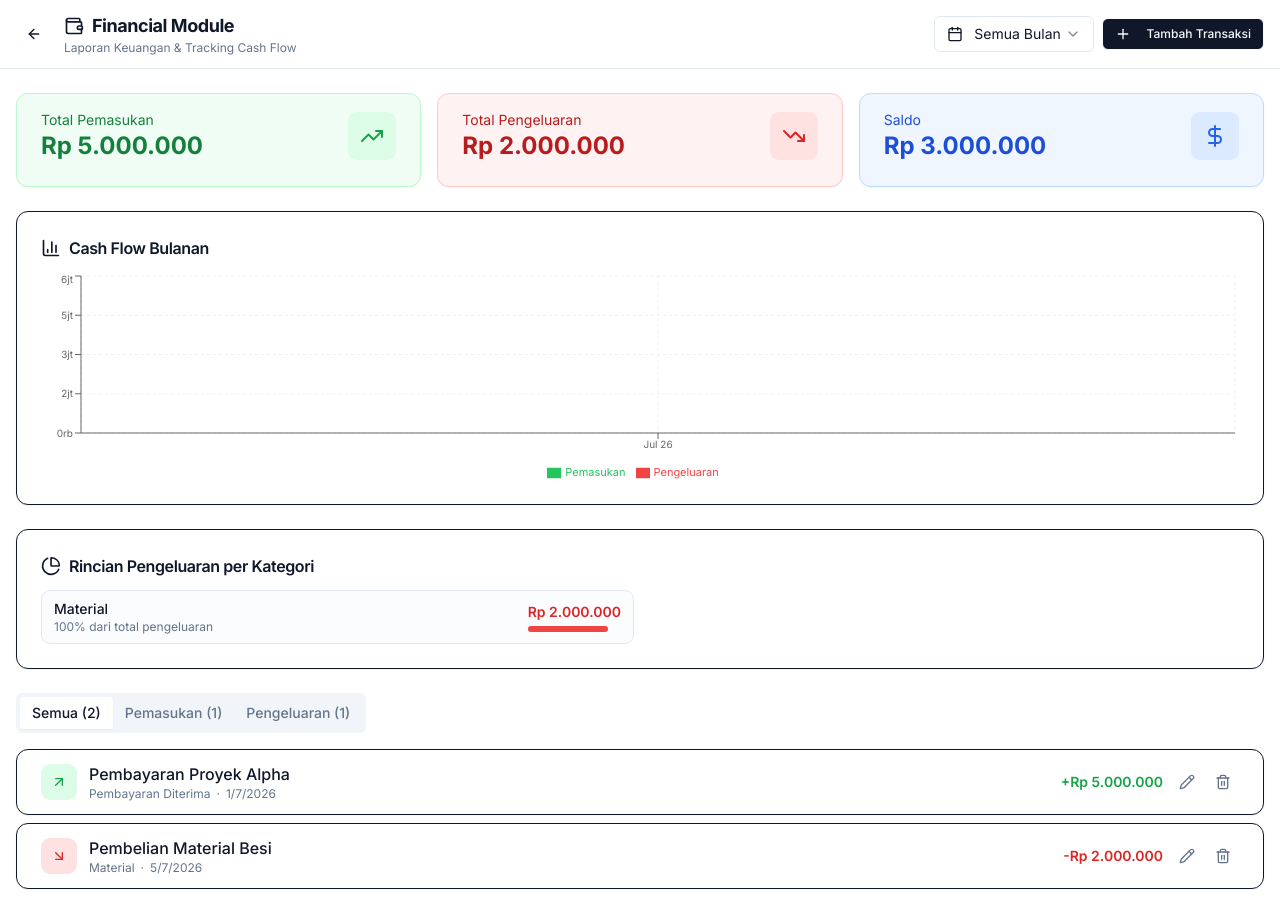
Test: FinancialModule – edit transaction › sends a PATCH and the updated description is visible in the same session
Click the 3rd button at (1187, 782), box left=1171, top=766, right=1203, bottom=798
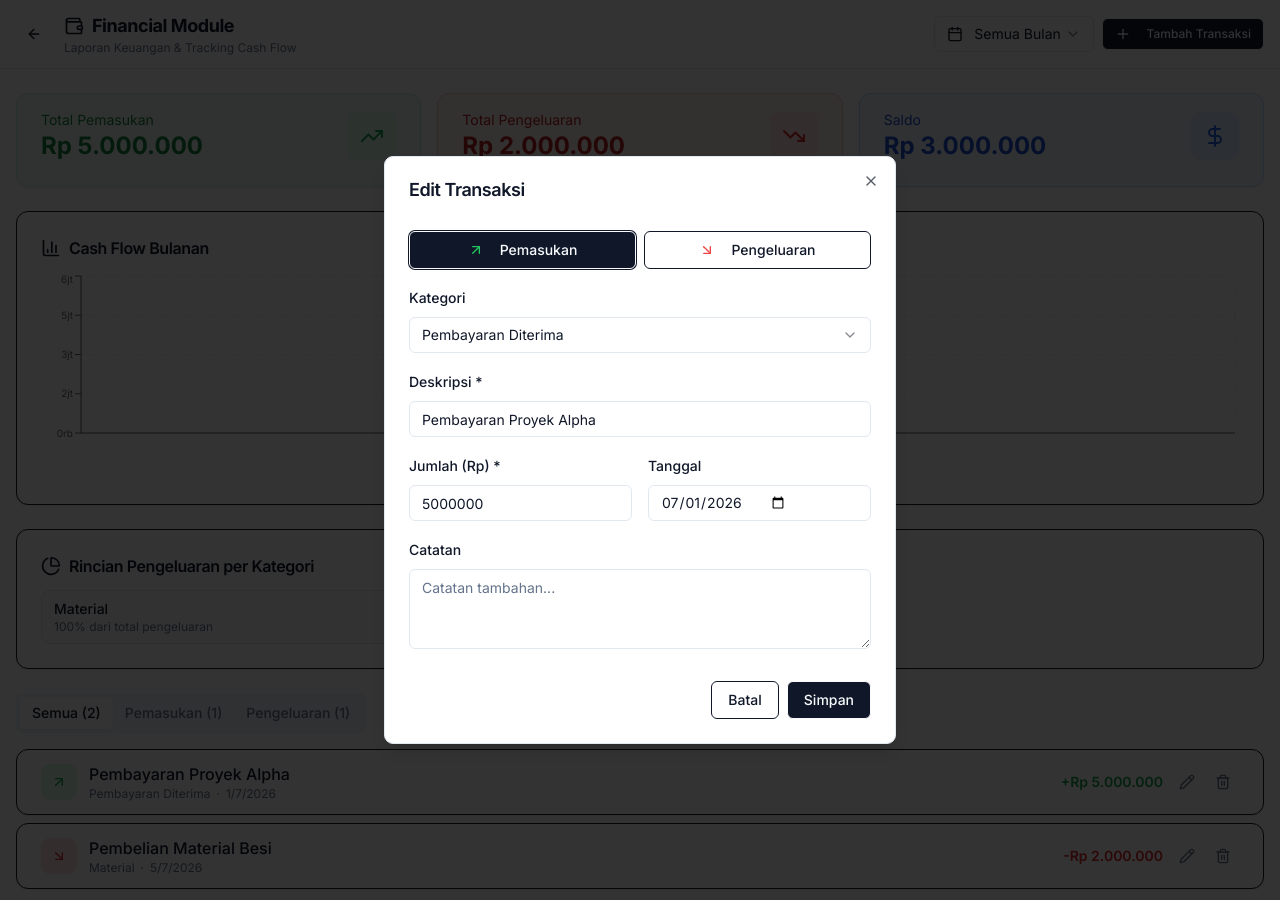
Check: the heading "Edit Transaksi" is shown, box left=409, top=179, right=525, bottom=200
Replace the text in the field showing "Pembayaran Proyek Alpha" below "Deskripsi *" with "Pembayaran Diperbarui" at (640, 419), box left=409, top=401, right=871, bottom=437
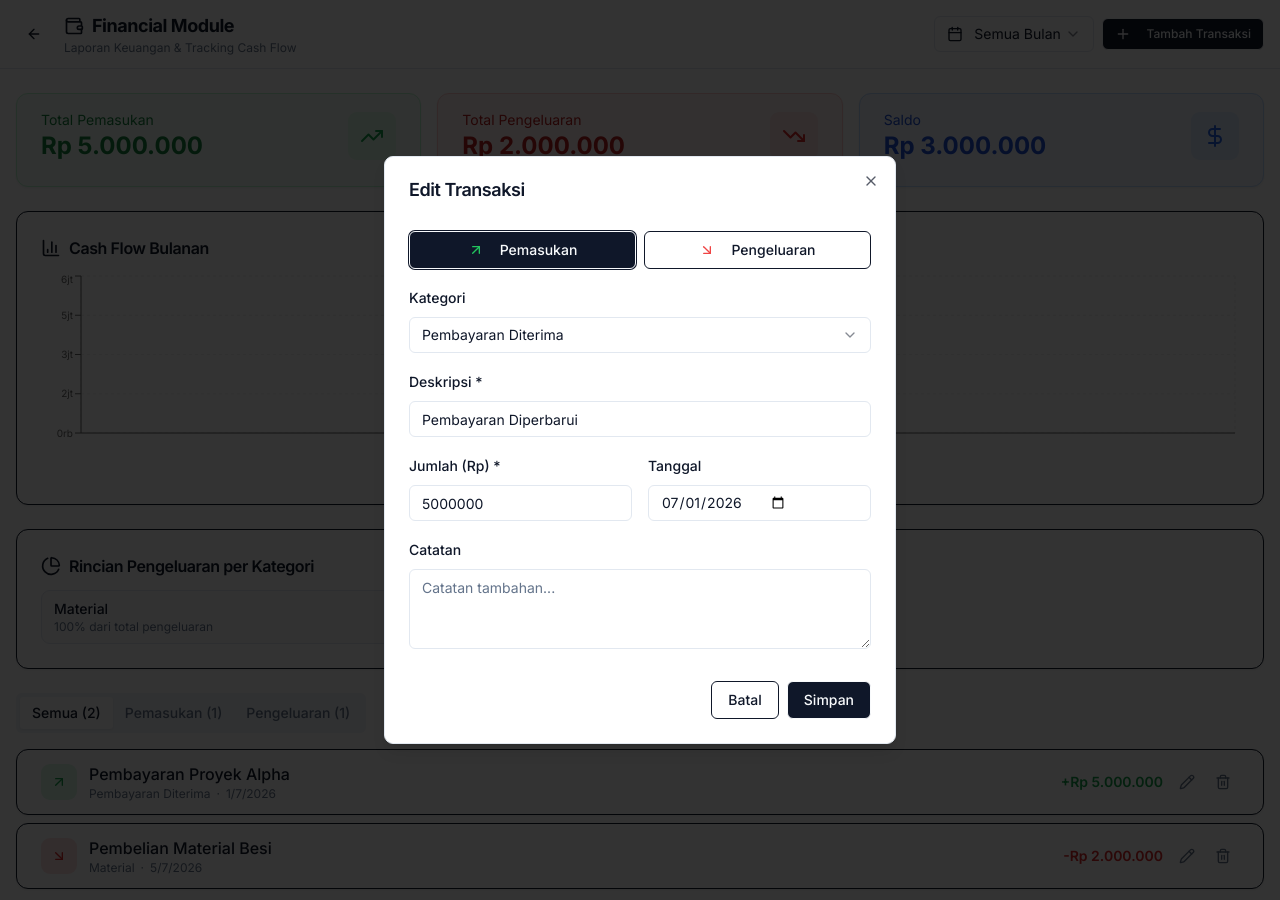
Click the button "Simpan" at (829, 700), box left=787, top=681, right=871, bottom=719
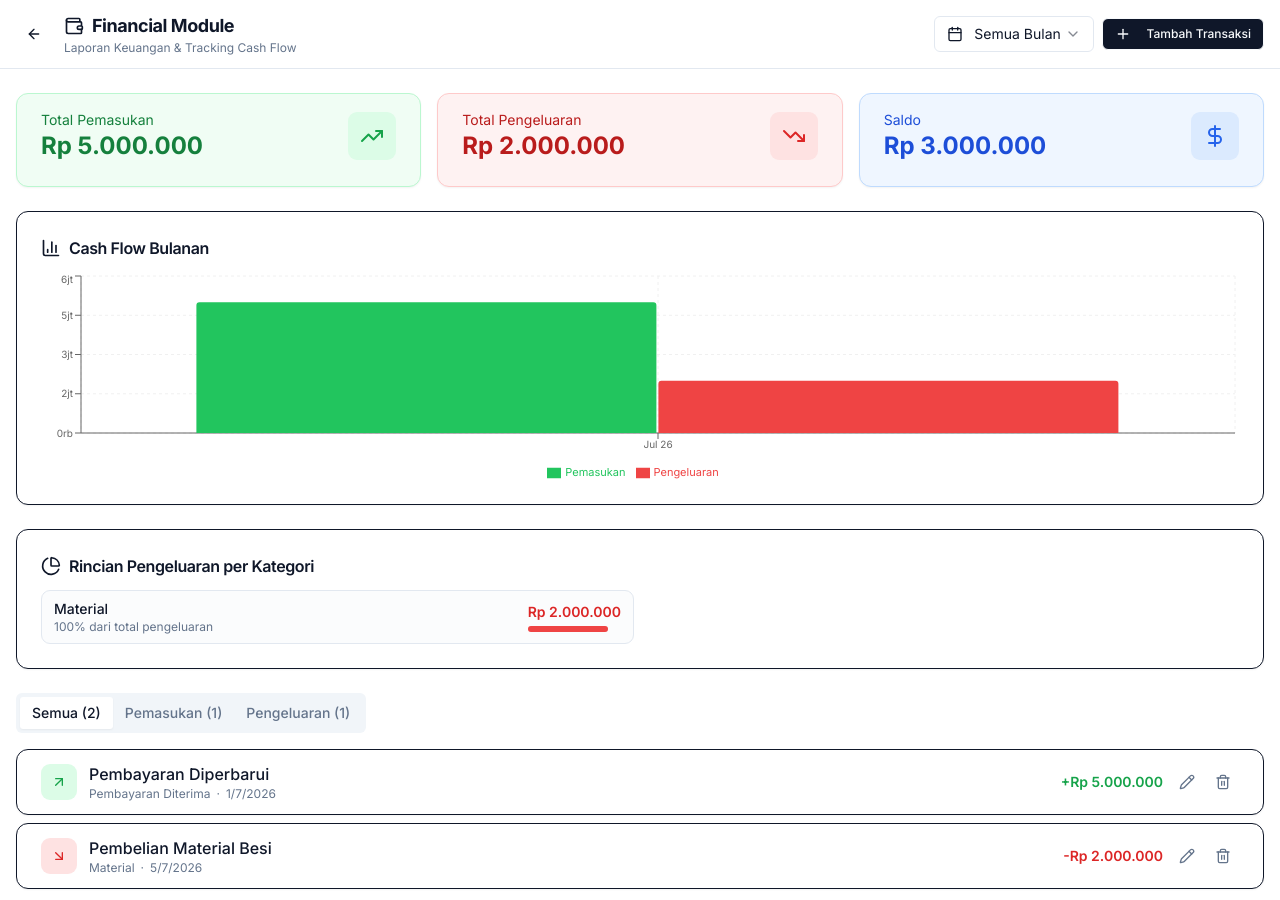
Check: the text "Pembayaran Diperbarui" is shown, box left=89, top=764, right=269, bottom=784
